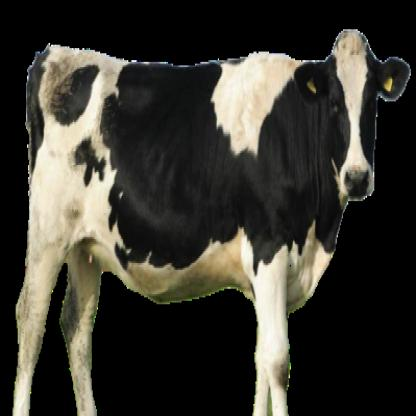lower: (350, 193, 368, 201)
mouth: (342, 167, 375, 202)
upper: (346, 170, 366, 187)
